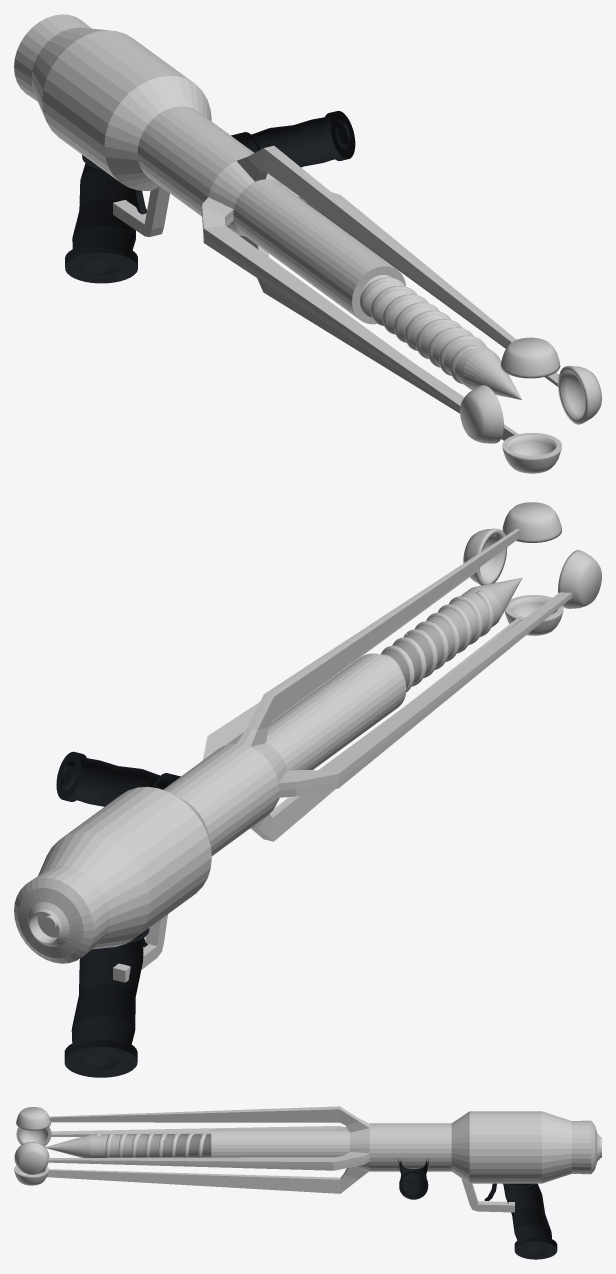
The model's file is purpully eyescrewouter.gltf.
3 views of the same model, one above another, from view 1: azimuth 30°, elevation 25°; view 2: azimuth 150°, elevation 25°; view 3: azimuth 270°, elevation 25° (orthographic). The views are drawn at different scales.
Parts seen in each view (by area): view 1: Cylinder, Plane; view 2: Cylinder, Plane; view 3: Cylinder, Plane.
Part boxes in pixels (bbox=[...]): Cylinder: bbox=[14, 14, 601, 473]; Plane: bbox=[65, 111, 485, 383]; Cylinder: bbox=[14, 502, 601, 963]; Plane: bbox=[56, 590, 493, 1077]; Cylinder: bbox=[14, 1106, 601, 1193]; Plane: bbox=[96, 1133, 557, 1259].
Size of the model in its own units: 5.02 by 5.73 by 20.99.
